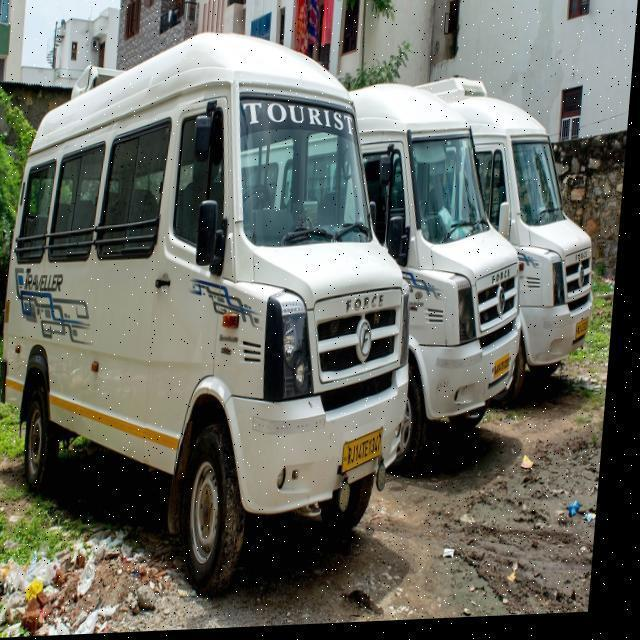Ambulance: (0, 12, 620, 614), (0, 358, 613, 637), (316, 78, 545, 481), (396, 73, 614, 415)
